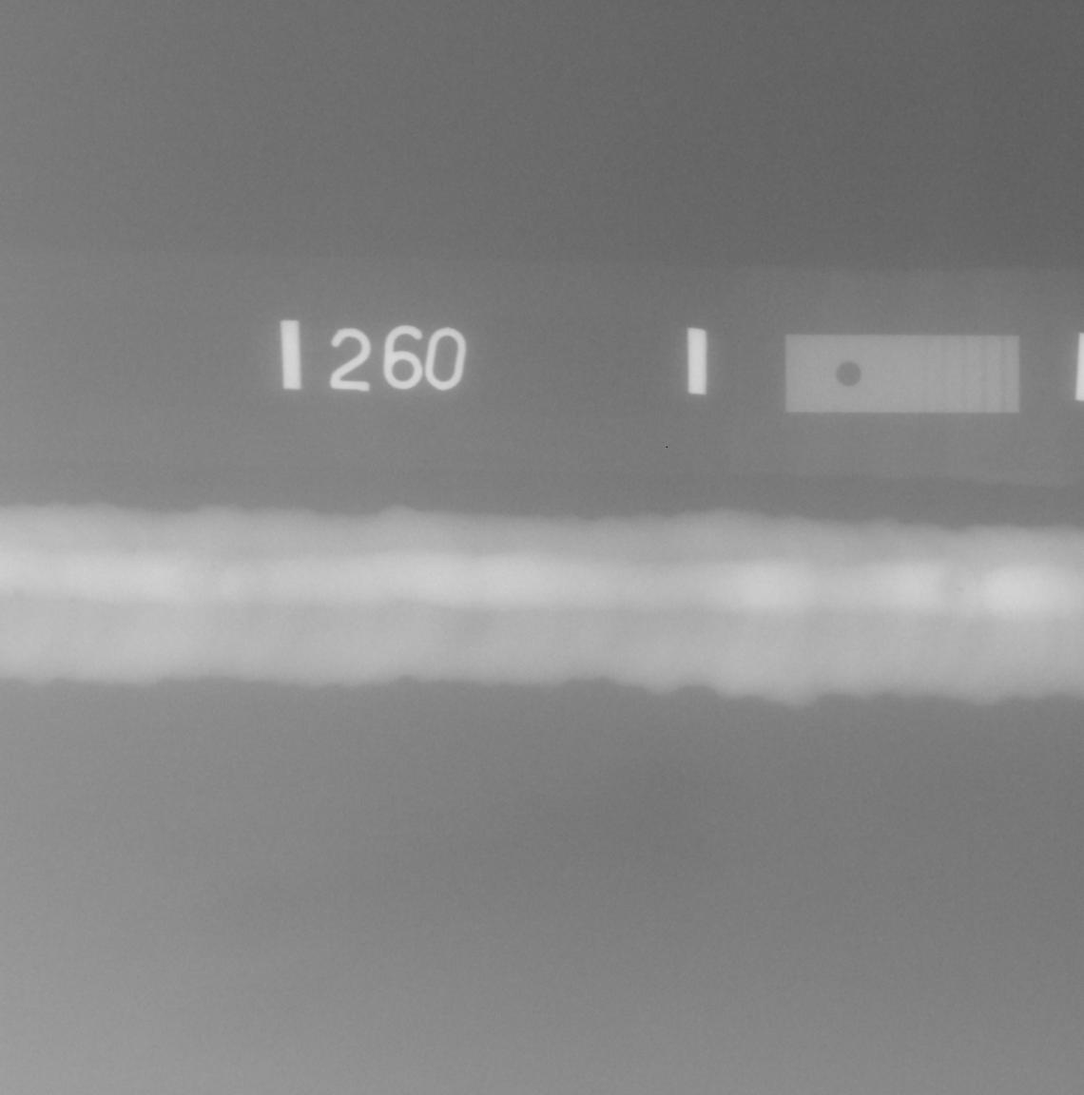Pore/Porosity: (955, 588, 963, 593), (210, 565, 214, 570)
Reference Standard 1: (785, 334, 1020, 413)
